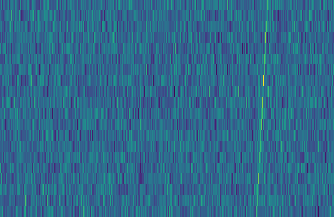signal: (253, 0, 274, 217)
